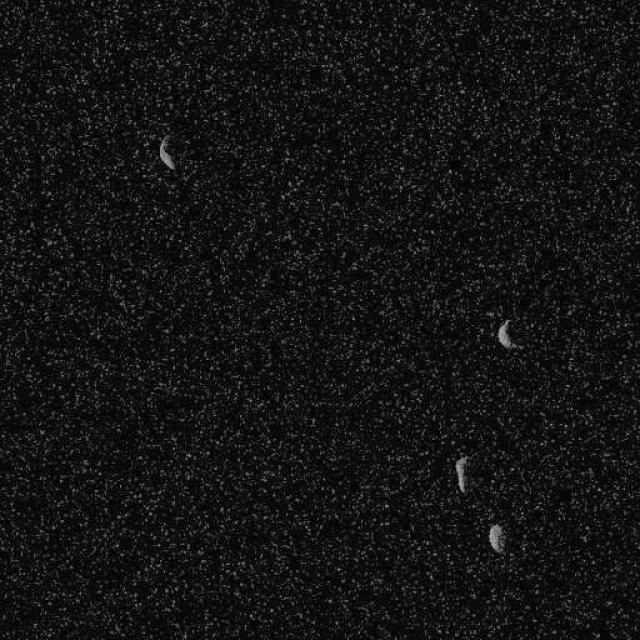D2: (495, 318, 516, 350), (158, 134, 176, 170), (488, 522, 507, 554), (454, 453, 468, 492)
